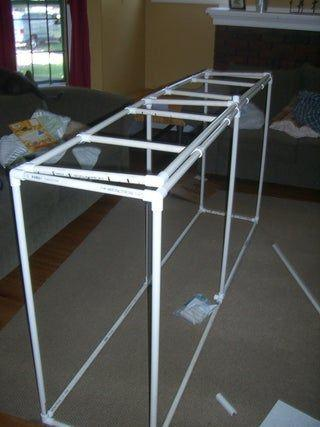PVC: (7, 170, 47, 414), (19, 170, 146, 201), (148, 195, 165, 425), (224, 109, 239, 301), (78, 133, 185, 158), (257, 73, 275, 221), (125, 105, 212, 127), (162, 83, 228, 106), (28, 134, 82, 159), (167, 146, 209, 178), (215, 386, 239, 422), (85, 109, 130, 128), (207, 69, 266, 78)
